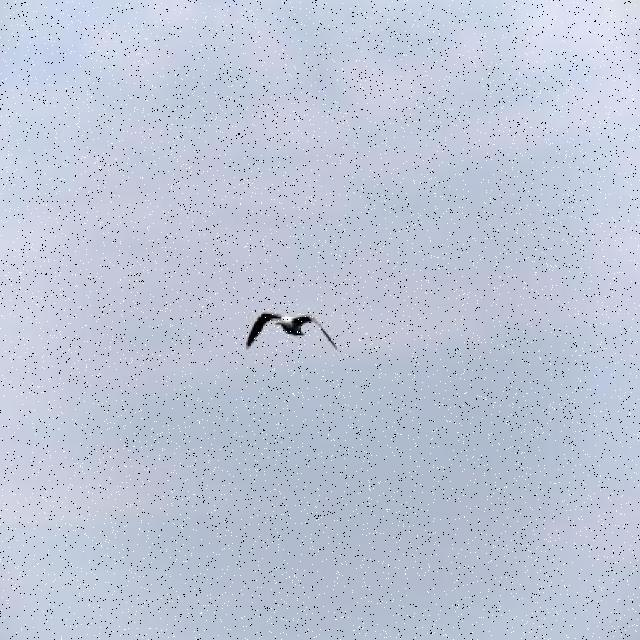bird: (246, 310, 340, 355)
